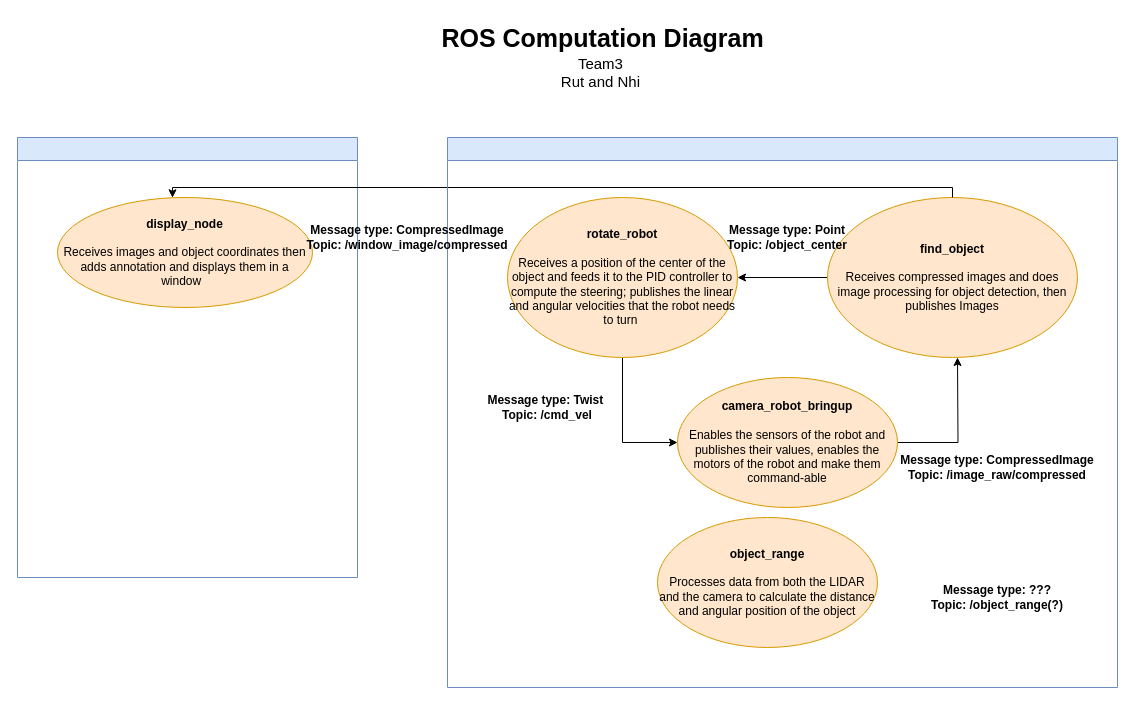
Some shapes in this 1135 by 705 pixel diagram are drawn without their labels. Each missing label, with the box of its shape:
Laptop/Computer: (16, 136, 358, 578)
Turtlebot3: (446, 136, 1118, 688)
